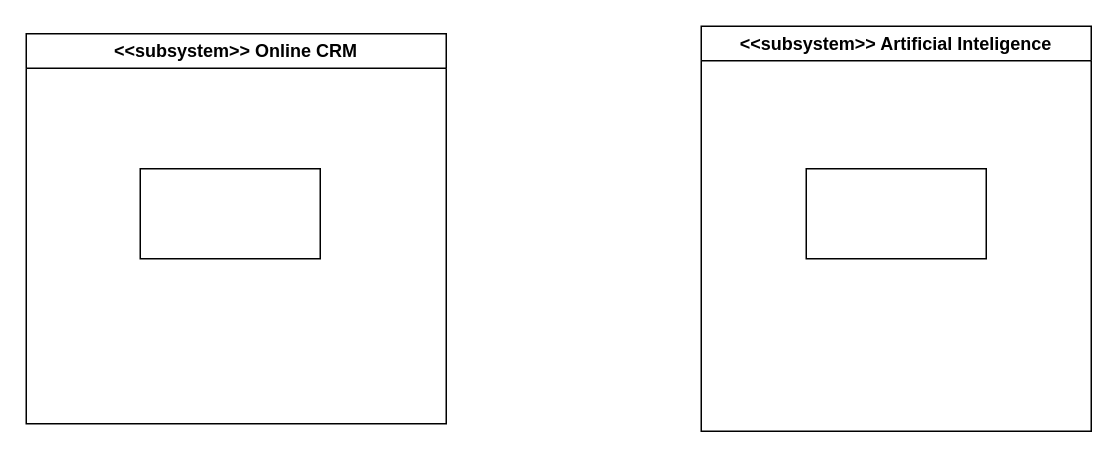
This 1118x458 diagram has some shape labels left out. The shapes that lost their labels are listed below. From the top down, each one's box as (x1, y1, x2, y2) in pixels, then its label:
(139, 167, 320, 259): SearchEngine
(805, 167, 986, 259): AnalizeData
